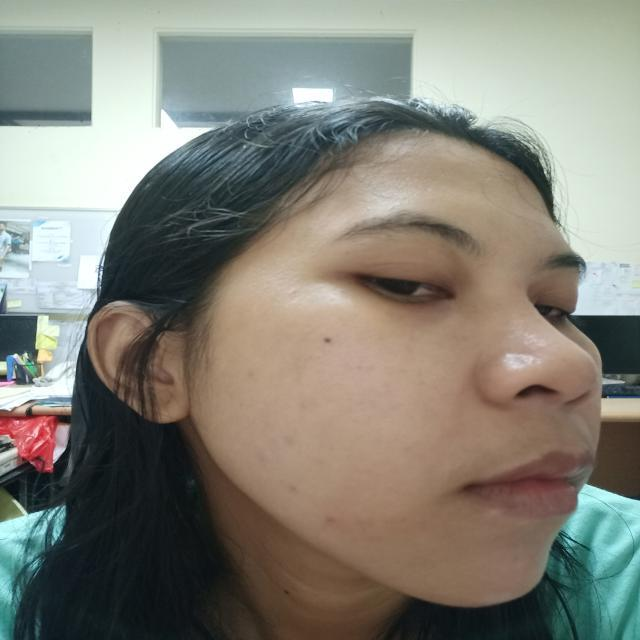acne: (294, 396, 322, 420), (318, 511, 346, 530), (282, 282, 306, 303), (281, 484, 308, 500), (253, 454, 279, 470), (281, 435, 305, 447), (242, 367, 260, 382)
dark circle: (354, 298, 472, 330)
